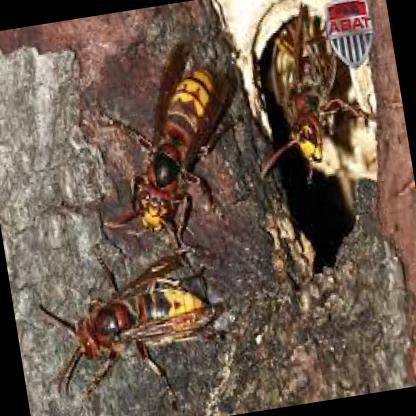european: (83, 35, 245, 236), (44, 245, 230, 404)
